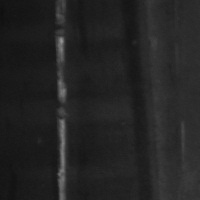scratches: (53, 4, 72, 199)
